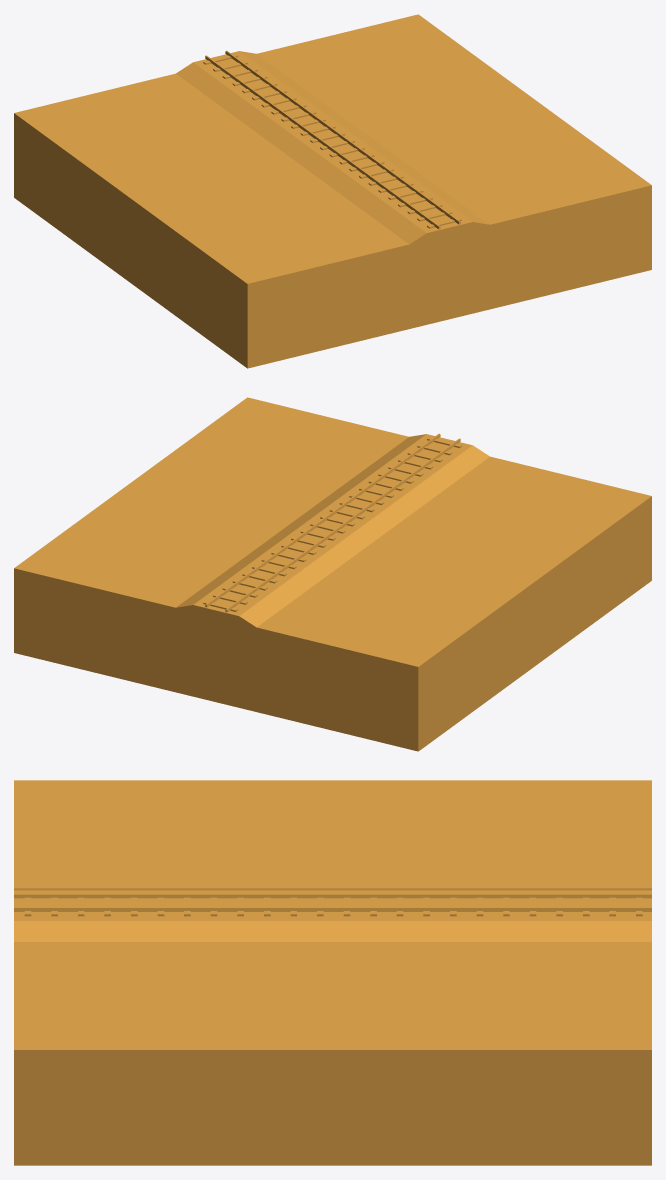
The model's file is tile-rail-straight.glb.
3 views of the same model, one above another, from view 1: azimuth 30°, elevation 25°; view 2: azimuth 150°, elevation 25°; view 3: azimuth 270°, elevation 25° (orthographic). The views are drawn at different scales.
Visible parts, largest first — view 1: tile-rail-straight; view 2: tile-rail-straight; view 3: tile-rail-straight.
Part boxes in pixels (x1=…): tile-rail-straight: x1=14, y1=14, x2=651, y2=368; tile-rail-straight: x1=14, y1=397, x2=651, y2=751; tile-rail-straight: x1=14, y1=780, x2=651, y2=1165.
Size of the model in its own units: 30 by 6.75 by 30.
